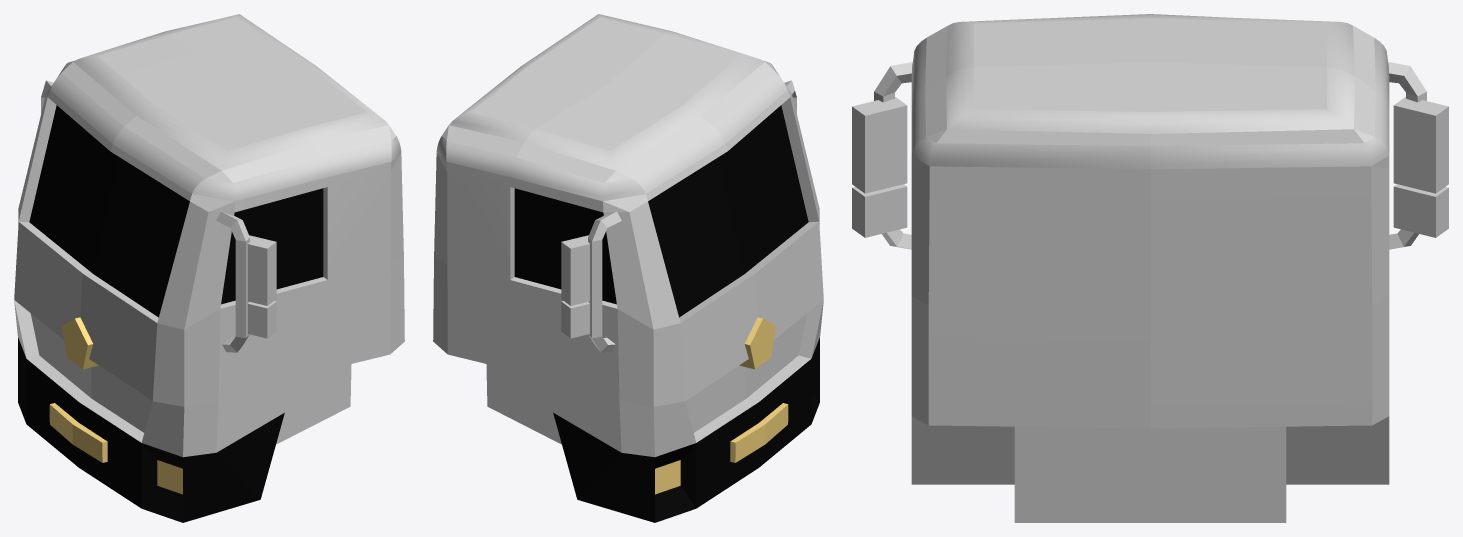
File: TruckHead.fbx
3 views of the same model, side by side, from view 1: azimuth 30°, elevation 25°; view 2: azimuth 150°, elevation 25°; view 3: azimuth 270°, elevation 25° (orthographic). The views are drawn at different scales.
Visible parts, largest first — view 1: Truck 2.001, Truck 2.003, Truck 2.002; view 2: Truck 2.001, Truck 2.003, Truck 2.002; view 3: Truck 2.001, Truck 2.002.
Boxes of the visible parts, x1,y1,x2,y2 form: Truck 2.001: (14, 14, 404, 457); Truck 2.003: (29, 105, 323, 317); Truck 2.002: (18, 317, 284, 522); Truck 2.001: (433, 14, 823, 507); Truck 2.003: (514, 105, 808, 317); Truck 2.002: (553, 317, 819, 522); Truck 2.001: (852, 14, 1448, 522); Truck 2.002: (911, 416, 1389, 484).
Size of the model in its own units: 197 by 257 by 294.
